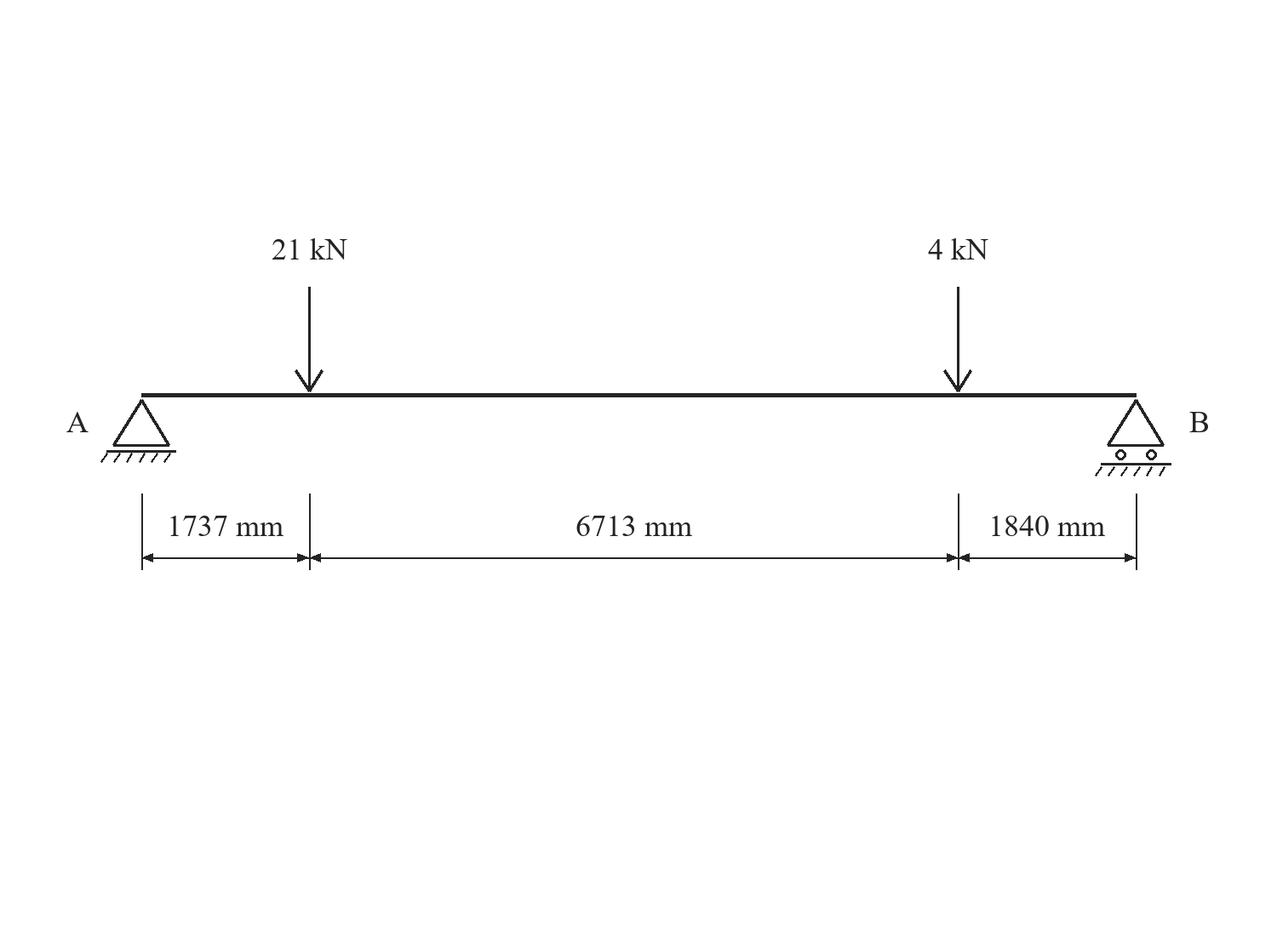pin_support: (100, 399, 176, 463)
point_load: (295, 287, 324, 392), (943, 287, 972, 392)
roller_support: (1095, 399, 1171, 477)
